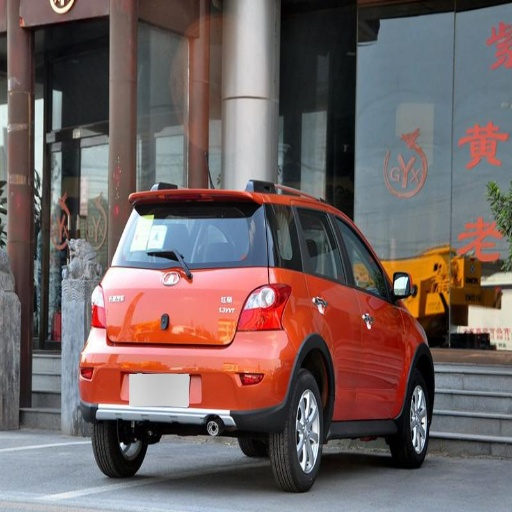back_bumper: (79, 325, 299, 432)
back_right_door: (274, 201, 363, 413)
trunk: (96, 264, 264, 372)
